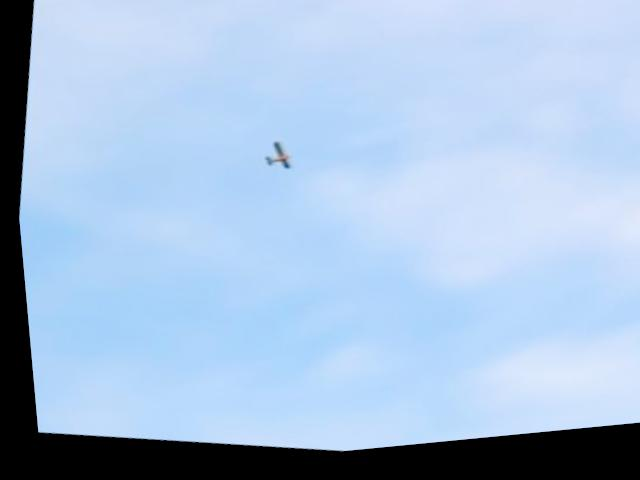uav: (253, 135, 296, 182)
